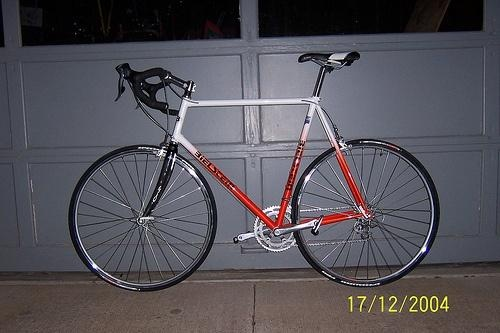bicycle: (67, 52, 444, 293)
